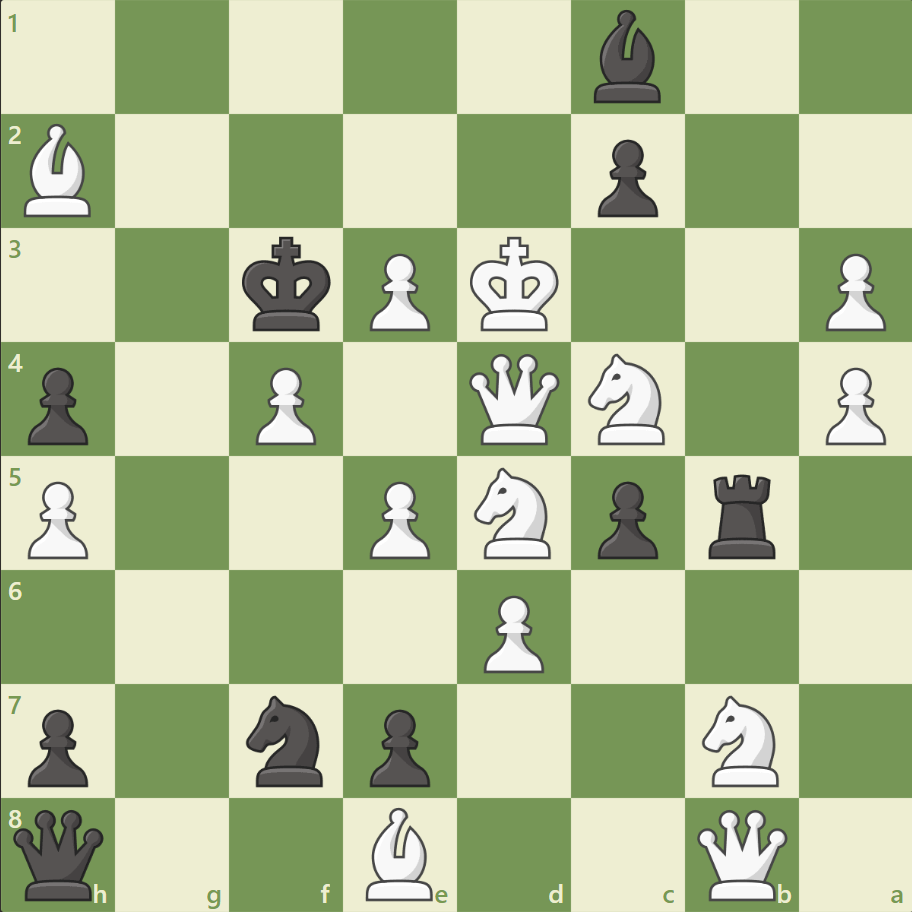B: (358, 801, 442, 904), (17, 120, 101, 222)
K: (465, 231, 565, 339)
N: (692, 688, 789, 791), (465, 461, 562, 564), (579, 348, 676, 450)
P: (474, 586, 549, 677), (20, 473, 95, 564), (247, 359, 322, 450), (361, 473, 435, 564), (815, 359, 889, 450), (815, 246, 889, 337), (361, 246, 435, 337)
Q: (464, 349, 563, 449), (691, 804, 790, 903)
b: (585, 6, 669, 109)
k: (238, 231, 338, 339)
n: (238, 688, 335, 791)
p: (20, 700, 95, 791), (20, 359, 95, 450), (361, 700, 435, 791), (588, 473, 662, 564), (588, 132, 662, 223)
q: (10, 804, 109, 903)
r: (700, 466, 783, 563)
